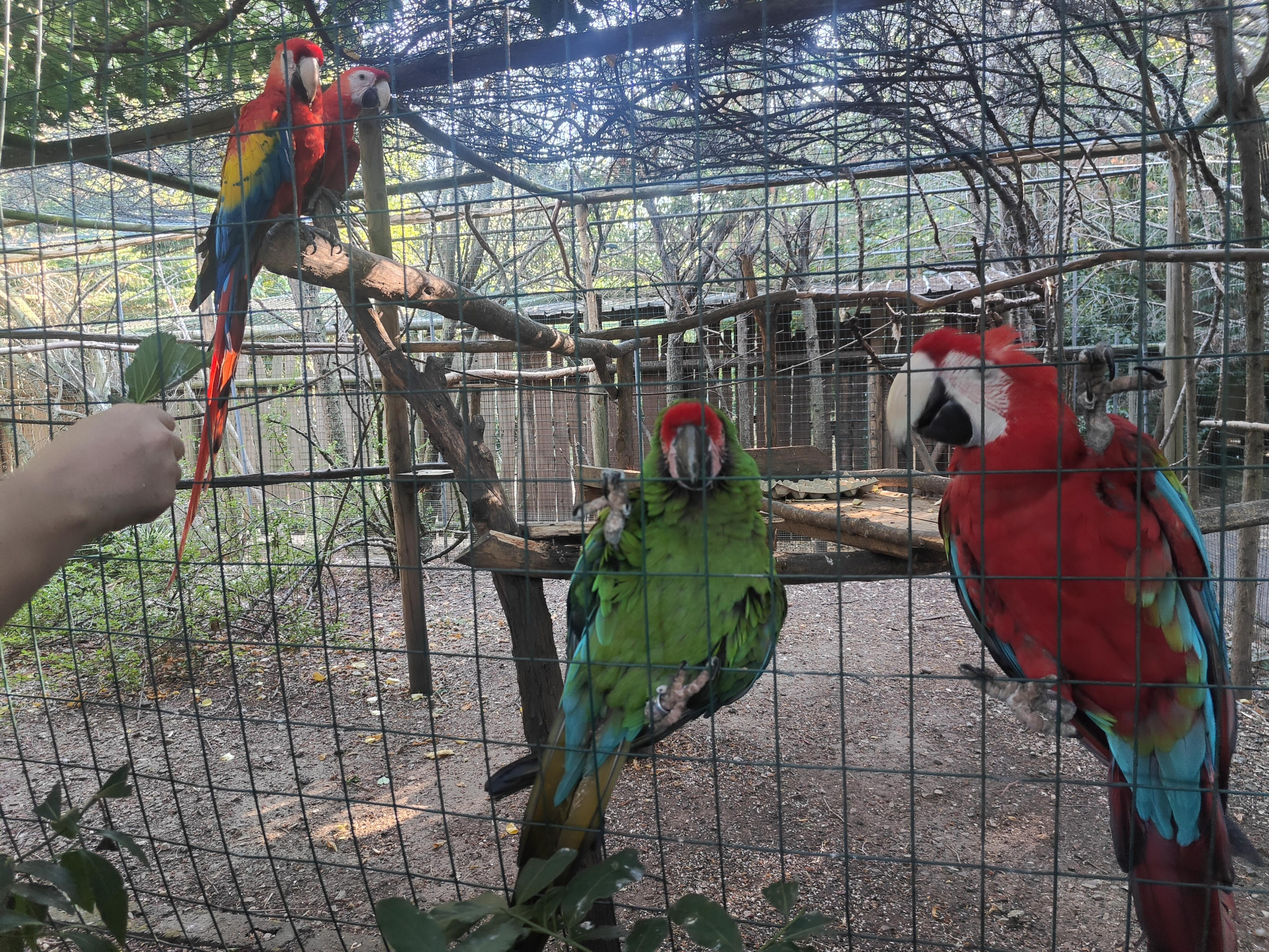apple: (886, 323, 1265, 952), (485, 398, 787, 908), (163, 38, 325, 593), (279, 67, 390, 217)
